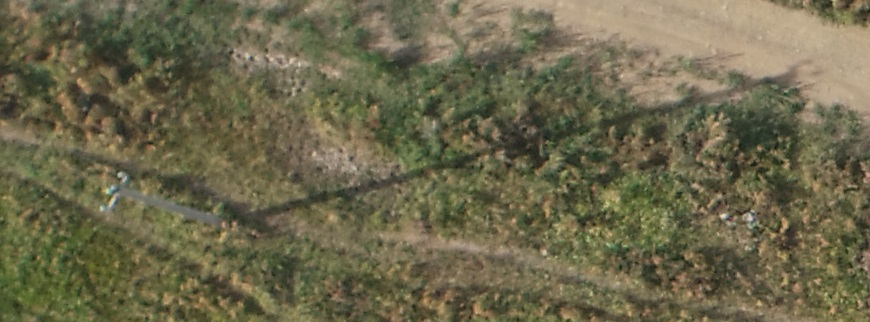opora: (96, 168, 299, 232)
